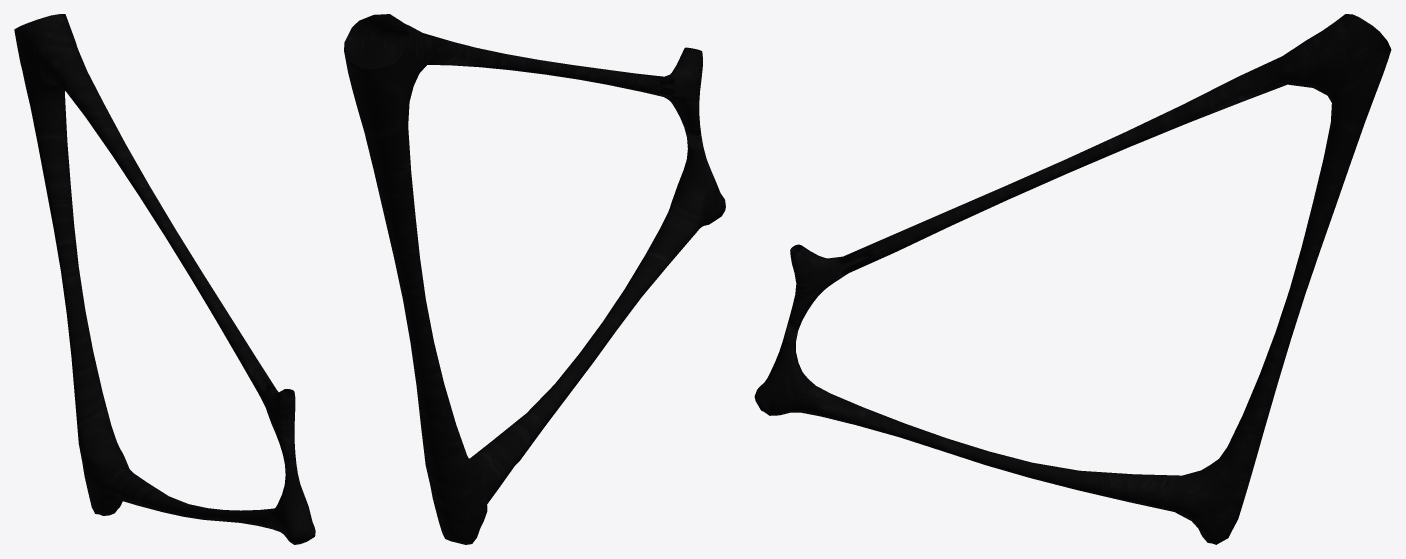
File: blackspider02.obj
3 renders of one model, left to right at view 1: azimuth 30°, elevation 25°; view 2: azimuth 150°, elevation 25°; view 3: azimuth 270°, elevation 25°, orthographic. The views are drawn at different scales.
Visible parts, largest first — view 1: Plane.001_Plane.004; view 2: Plane.001_Plane.004; view 3: Plane.001_Plane.004.
Part boxes in pixels (x1,y1,x2,y2): Plane.001_Plane.004: (14,14,315,544); Plane.001_Plane.004: (344,14,725,544); Plane.001_Plane.004: (754,14,1391,544).
Bounding box in the file's own units: 1.62 × 15.79 × 17.42.
Materials: 1 (1 with a texture image).
